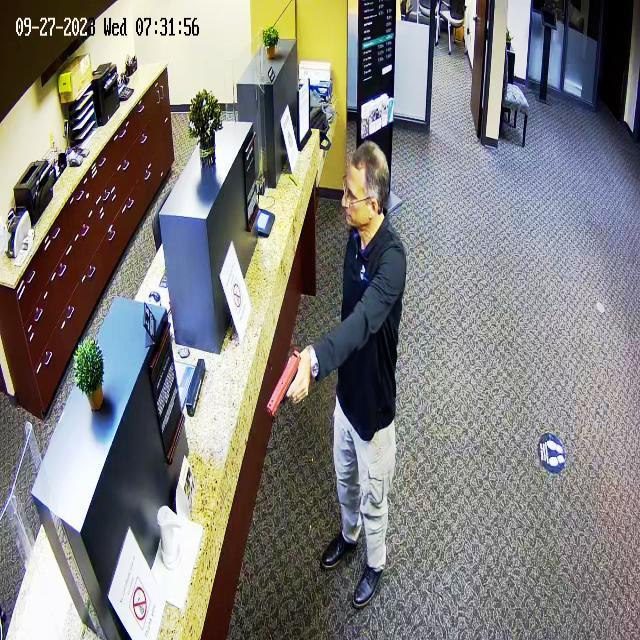Gun: (252, 336, 328, 432)
